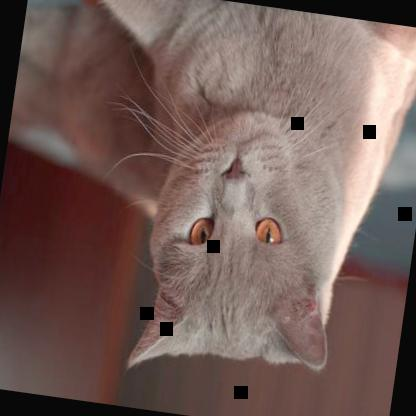cat: (114, 0, 415, 404)
